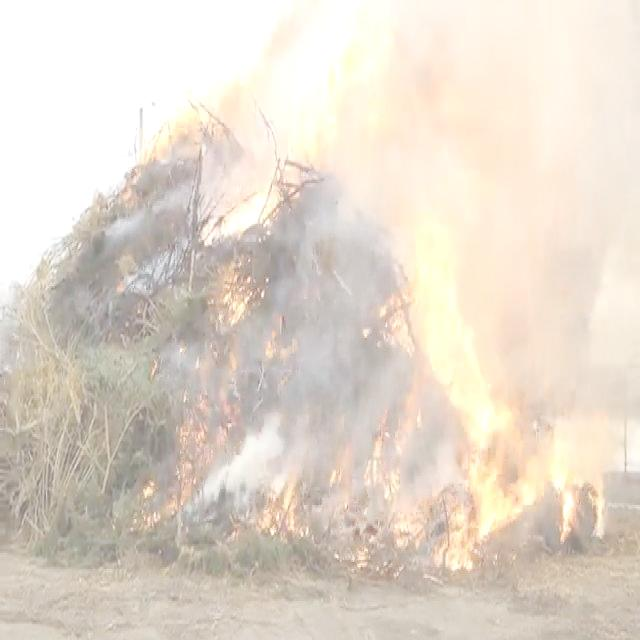fire: (463, 78, 546, 260), (402, 138, 477, 218), (514, 374, 563, 468), (463, 442, 507, 532), (388, 45, 448, 110), (419, 289, 477, 348), (188, 73, 238, 134), (416, 234, 459, 304), (318, 82, 362, 143), (258, 45, 304, 100), (512, 434, 553, 494), (568, 412, 606, 472), (372, 108, 412, 162), (348, 38, 384, 96), (468, 394, 512, 441), (156, 113, 192, 154), (444, 360, 480, 400), (290, 124, 322, 167), (210, 202, 242, 236), (236, 188, 261, 222), (560, 490, 576, 520), (594, 492, 606, 528)
smoke: (558, 252, 638, 360), (578, 169, 640, 266), (583, 58, 640, 156), (571, 4, 636, 75), (245, 433, 268, 478), (229, 458, 256, 492), (266, 418, 278, 458), (215, 460, 230, 484)
